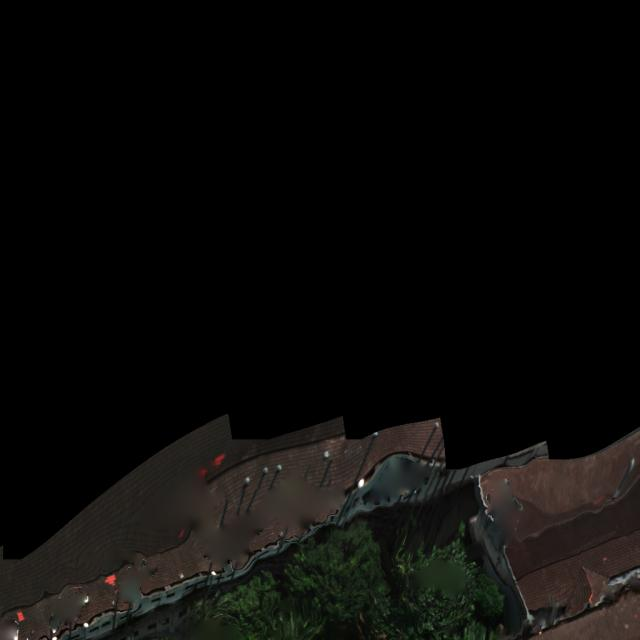blur tree: (392, 521, 508, 640), (284, 519, 393, 627), (189, 568, 329, 640)
